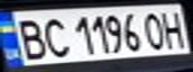1: (69, 12, 93, 55), (90, 11, 109, 54)
6: (121, 10, 145, 52)
9: (103, 11, 127, 53)
B: (9, 15, 48, 61)
C: (36, 14, 72, 58)
H: (157, 8, 190, 50)
O: (139, 9, 172, 51)
